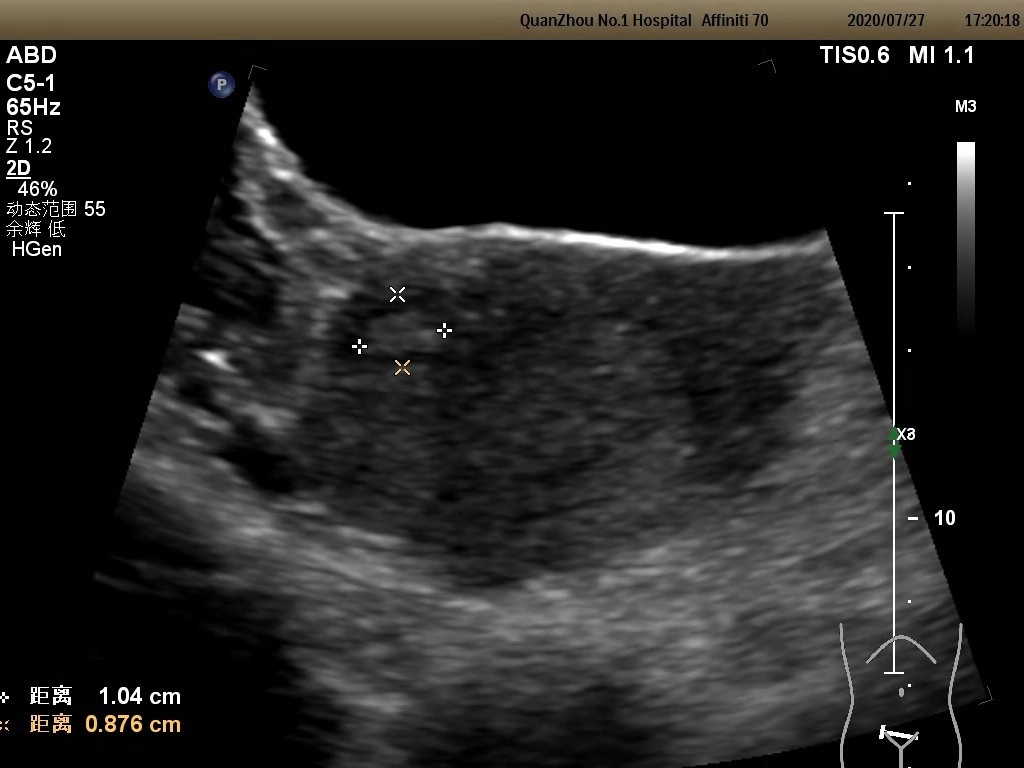肌瘤: (360, 294, 447, 370)
